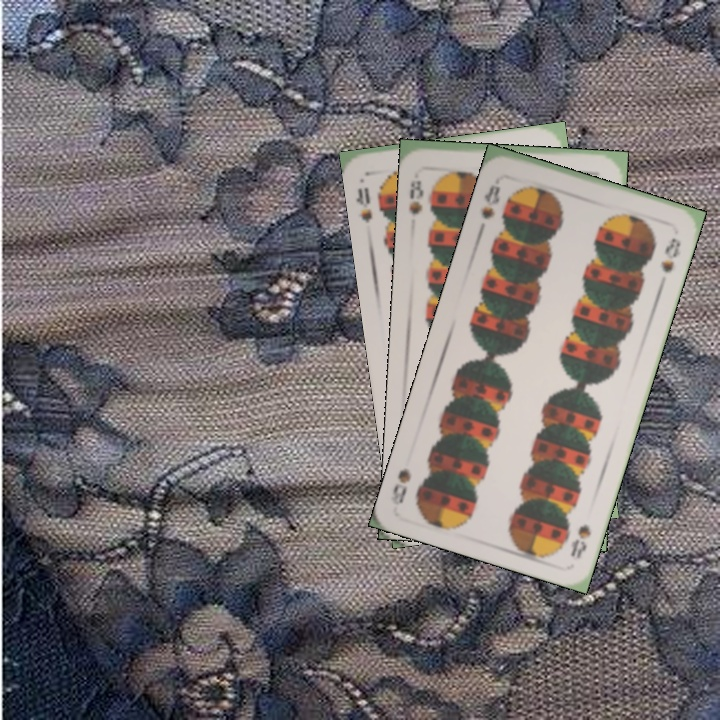S8: (566, 520, 594, 562), (477, 181, 503, 222), (352, 183, 375, 225), (404, 176, 426, 217)
